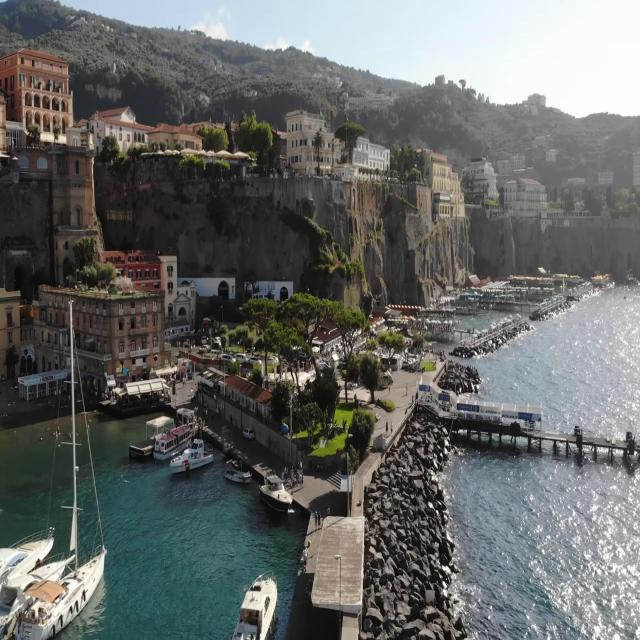boat: (262, 470, 296, 517), (156, 422, 198, 458), (174, 438, 214, 474), (226, 466, 251, 484)
sailboat: (19, 295, 111, 639)
